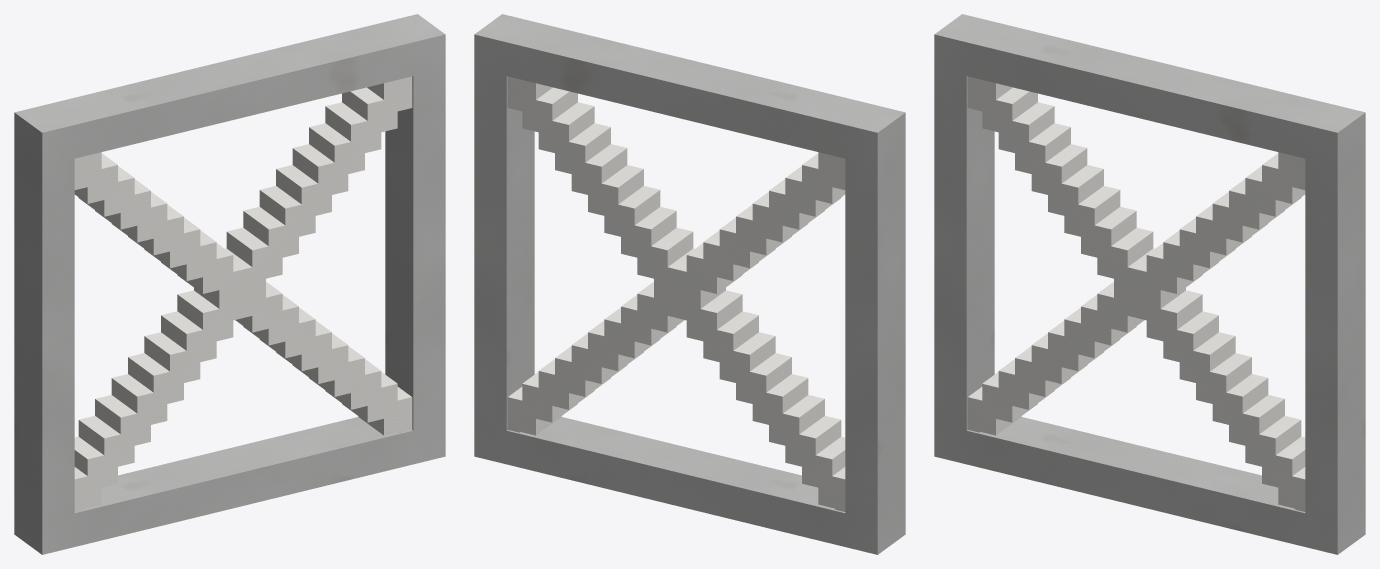
The model's file is shard.gltf.
3 views of the same model, side by side, from view 1: azimuth 30°, elevation 25°; view 2: azimuth 150°, elevation 25°; view 3: azimuth 330°, elevation 25° (orthographic).
Parts seen in each view (by area): view 1: jx_shard; view 2: jx_shard; view 3: jx_shard.
Boxes of the visible parts, x1,y1,x2,y2 form: jx_shard: (14, 14, 445, 554); jx_shard: (474, 14, 905, 554); jx_shard: (934, 14, 1365, 554).
Bounding box in the file's own units: 1 × 1 × 0.12.
Materials: 2 (2 with a texture image).
